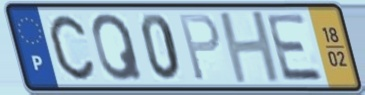0: (139, 12, 183, 84)
C: (47, 13, 98, 83)
E: (263, 12, 327, 83)
H: (216, 8, 284, 87)
P: (176, 12, 223, 84)
Q: (90, 12, 146, 84)
